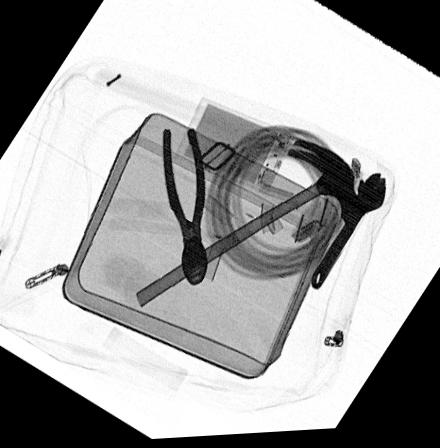Hammer: (134, 140, 371, 307)
Pliers: (161, 129, 208, 286)
Powerbank: (172, 98, 295, 198)
Wrench: (308, 174, 386, 293)
